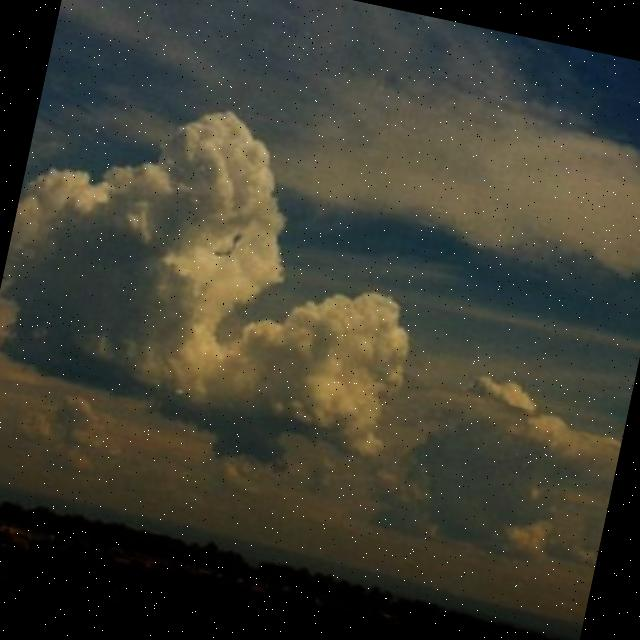Cs: (1, 1, 640, 546)
